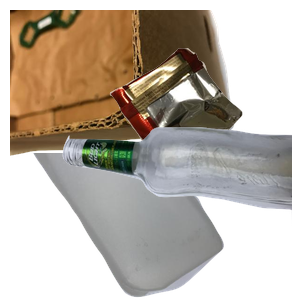cardboard: (10, 10, 237, 158)
glass: (60, 124, 300, 300)
plastic: (29, 153, 245, 300)
trash: (107, 46, 300, 198)
